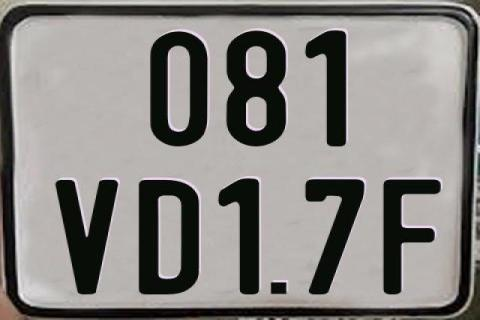0: (147, 31, 211, 148), (226, 30, 290, 146), (304, 178, 368, 294), (215, 177, 259, 297), (305, 28, 346, 144)
D: (138, 178, 203, 296)
F: (380, 177, 438, 292)
V: (54, 179, 117, 296)
